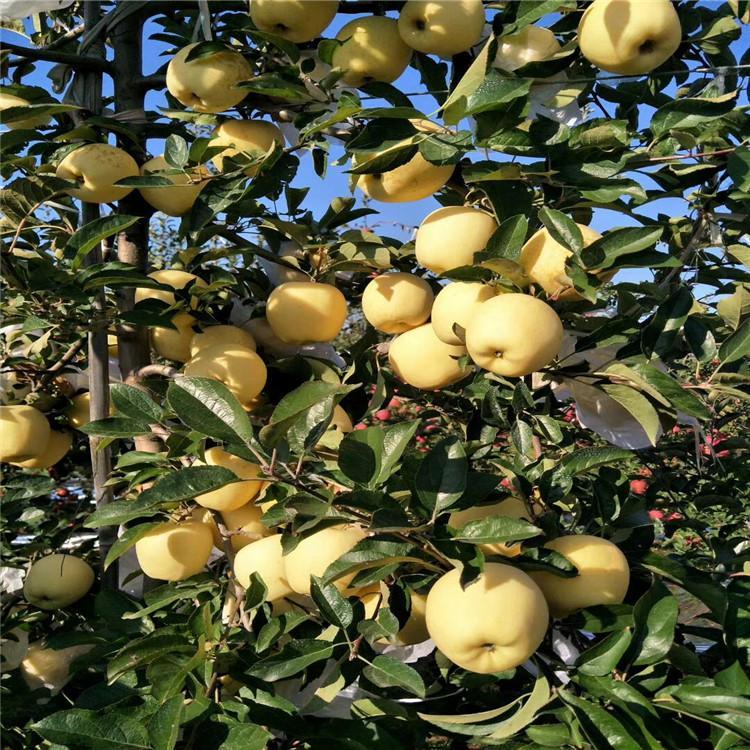apple: (424, 555, 549, 676), (459, 289, 563, 380), (576, 1, 679, 75), (535, 536, 629, 610), (162, 40, 252, 112), (416, 203, 499, 277), (185, 342, 269, 409), (330, 18, 410, 88), (52, 142, 139, 202), (265, 283, 348, 345), (398, 1, 488, 57), (135, 520, 214, 582), (361, 273, 433, 335), (24, 551, 96, 611), (246, 1, 341, 43)
